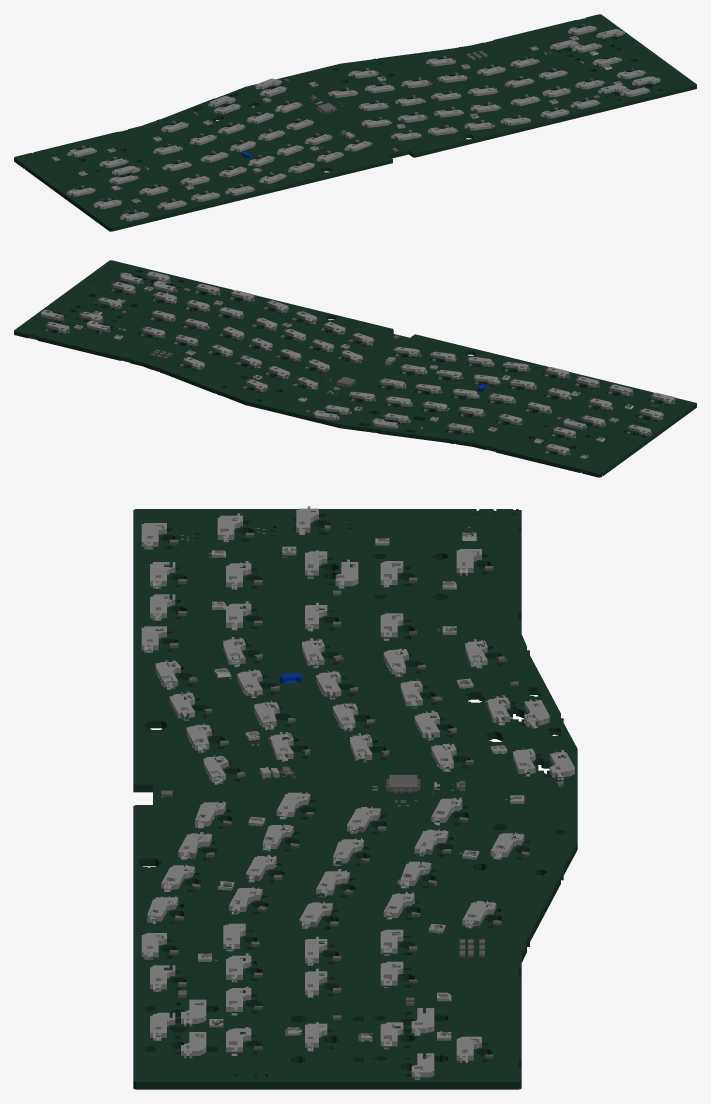
Rendered from adelais-hs.glb.
3 renders of one model, top to bottom at view 1: azimuth 30°, elevation 25°; view 2: azimuth 150°, elevation 25°; view 3: azimuth 270°, elevation 25°, orthographic. The views are drawn at different scales.
Visible parts, largest first — view 1: adelais-hs; view 2: adelais-hs; view 3: adelais-hs.
Boxes of the visible parts, <box> form: adelais-hs: <box>14,14,696,231</box>; adelais-hs: <box>14,260,696,477</box>; adelais-hs: <box>133,506,577,1089</box>.
Size of the model in its own units: 337 by 4.2 by 111.
